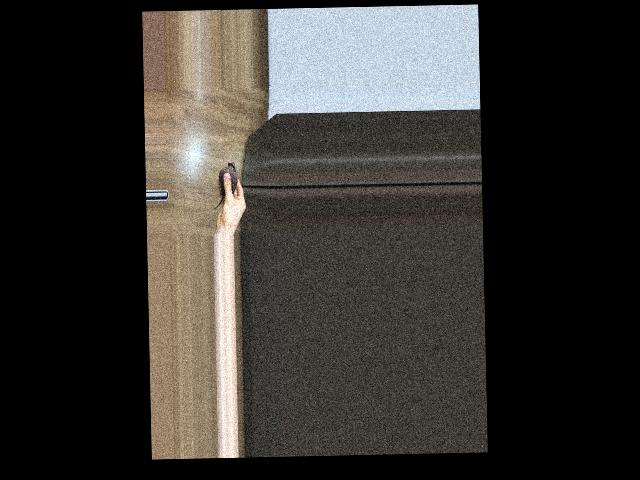beet: (212, 161, 238, 207)
